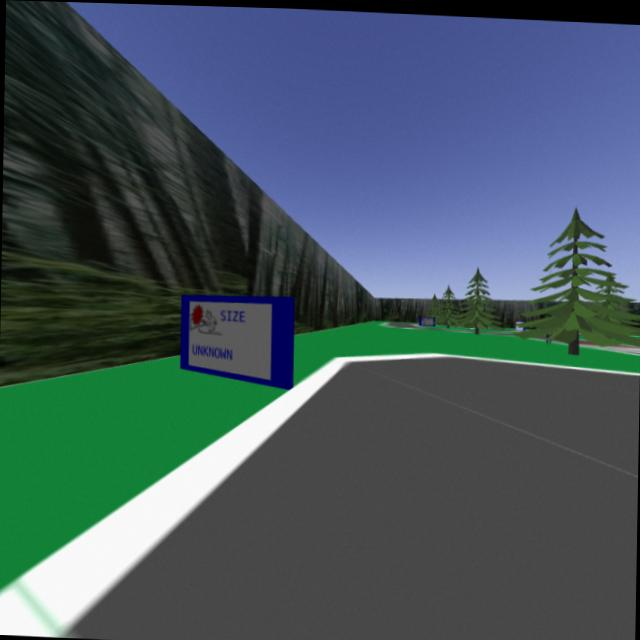clueboard: (171, 285, 302, 393)
